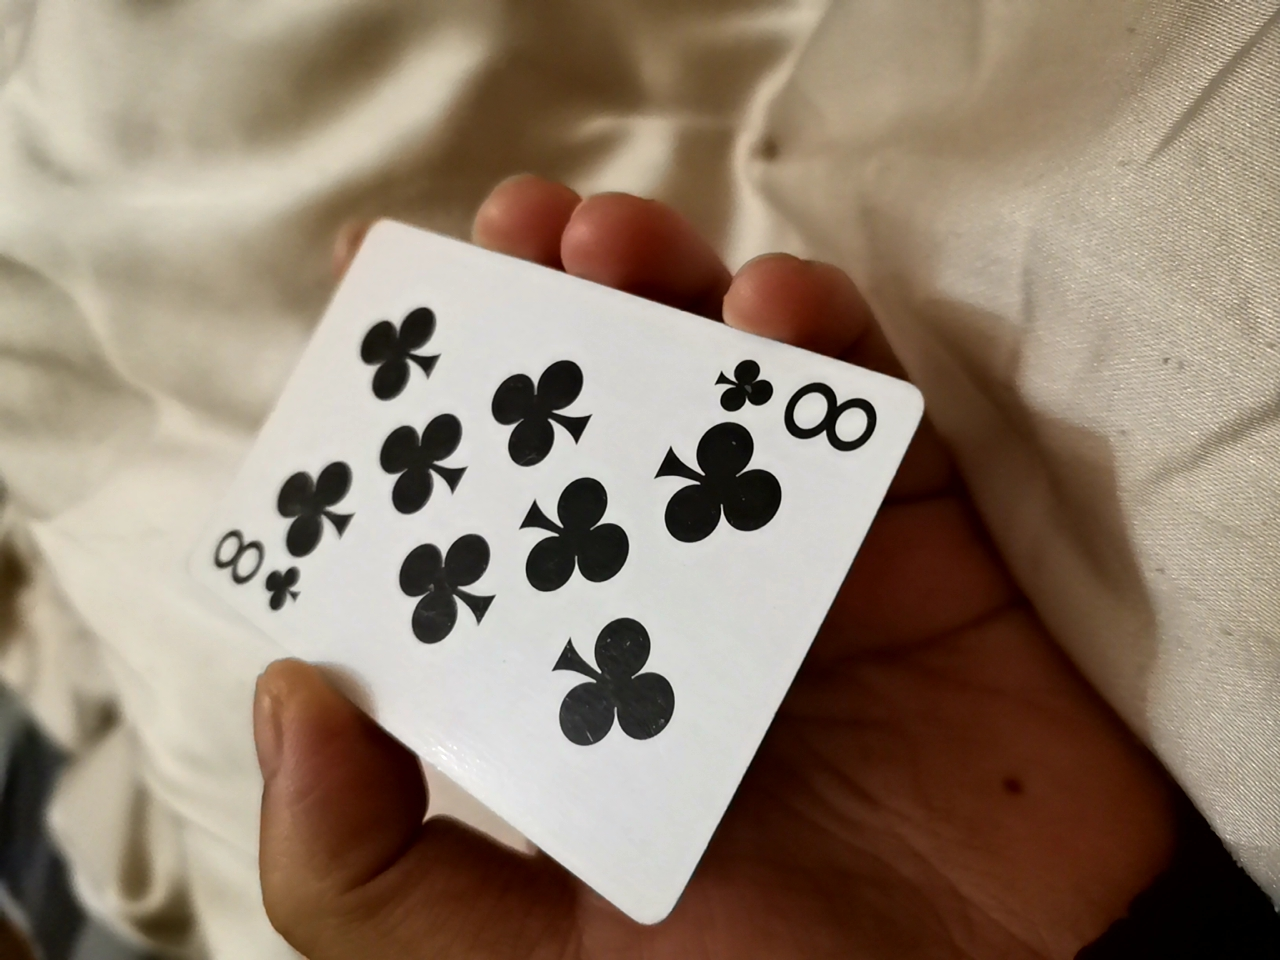mh 8: (144, 211, 956, 936)
